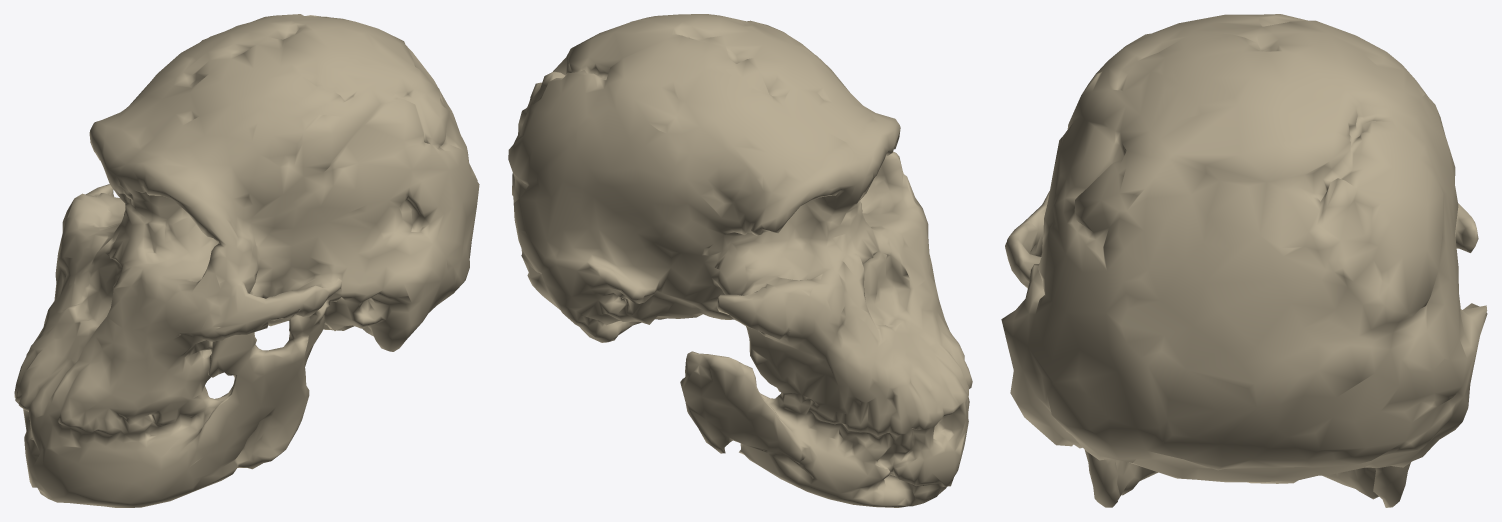
File: nalediskull.glb
3 views of the same model, side by side, from view 1: azimuth 30°, elevation 25°; view 2: azimuth 150°, elevation 25°; view 3: azimuth 270°, elevation 25° (orthographic). The views are drawn at different scales.
Size of the model in its own units: 0.1885 by 0.1741 by 0.1328.
